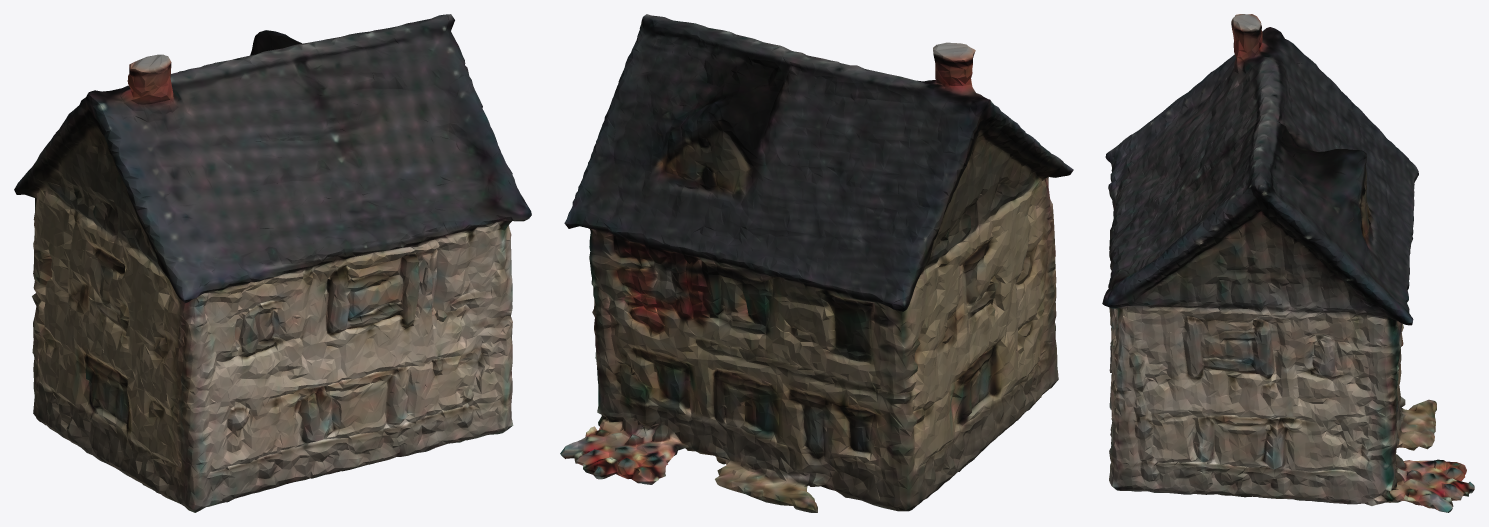
Rendered from normandy_house_triposr.obj.
3 views of the same model, side by side, from view 1: azimuth 30°, elevation 25°; view 2: azimuth 150°, elevation 25°; view 3: azimuth 270°, elevation 25° (orthographic). The views are drawn at different scales.
Visible parts, largest first — view 1: normandy_house_triposr; view 2: normandy_house_triposr; view 3: normandy_house_triposr.
Boxes of the visible parts, bbox=[...] form: normandy_house_triposr: bbox=[14, 14, 531, 512]; normandy_house_triposr: bbox=[560, 14, 1073, 512]; normandy_house_triposr: bbox=[1102, 14, 1474, 512].
Size of the model in its own units: 9.6 by 10.5 by 9.55.
1 material, 1 textured.
